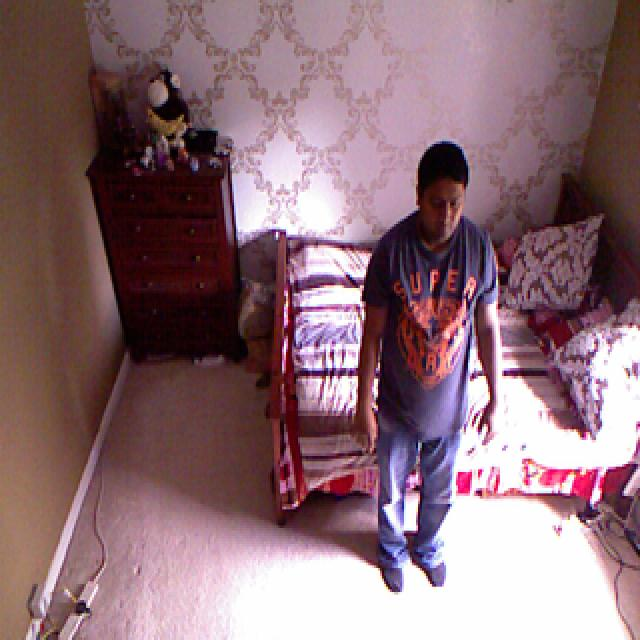standing: (359, 139, 504, 613)
